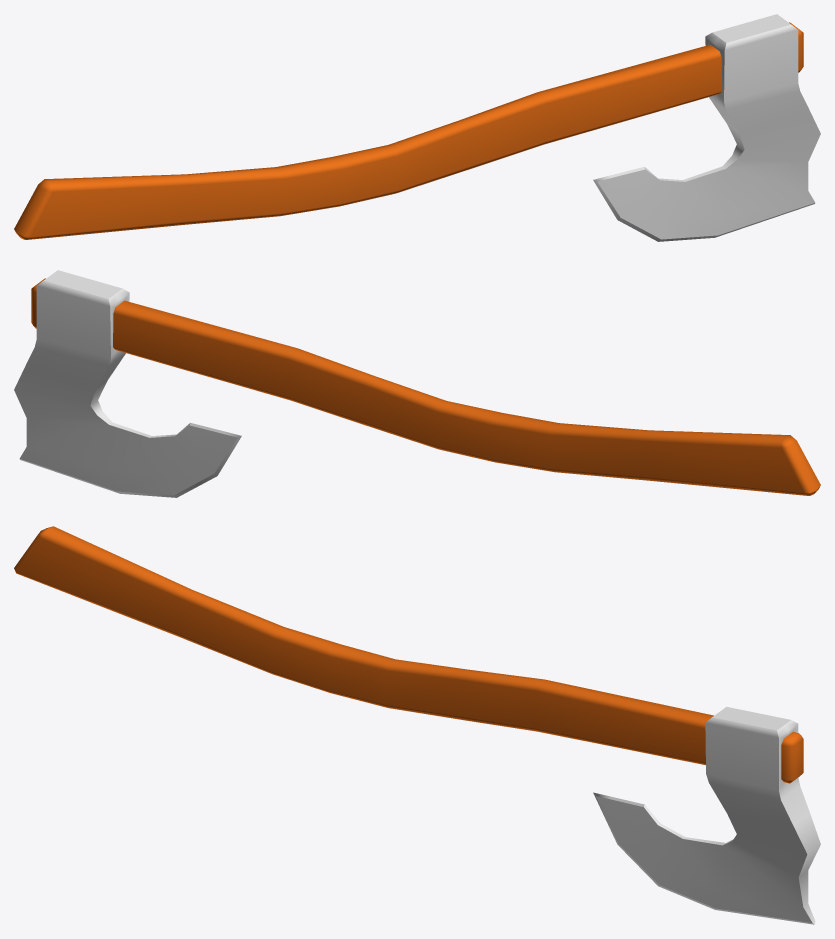
File: execution_axe.fbx
The picture shows the model from 3 angles, top to bottom: view 1: azimuth 30°, elevation 25°; view 2: azimuth 150°, elevation 25°; view 3: azimuth 330°, elevation 25°; orthographic projection.
Parts seen in each view (by area): view 1: axe; view 2: axe; view 3: axe.
Part boxes in pixels (left/top/right/bottom): axe: left=14, top=14, right=820, bottom=241; axe: left=14, top=270, right=820, bottom=497; axe: left=14, top=526, right=820, bottom=924.
Size of the model in its own units: 99.62 by 26.13 by 4.18.
